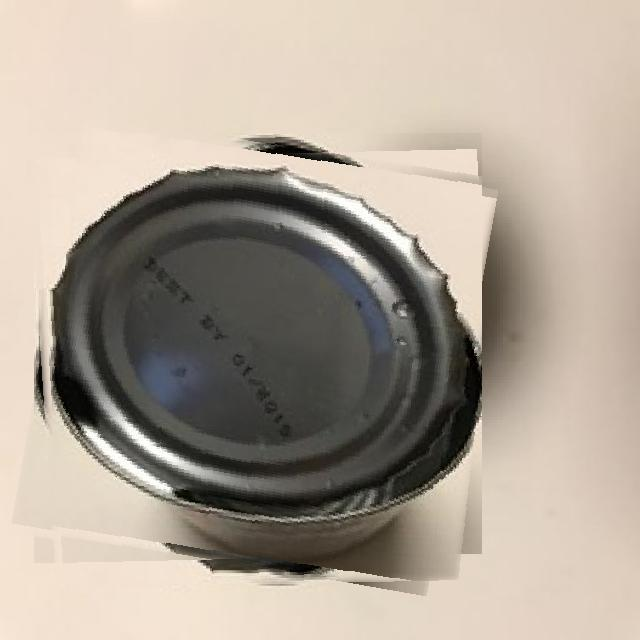recyclable: (26, 133, 482, 589)
